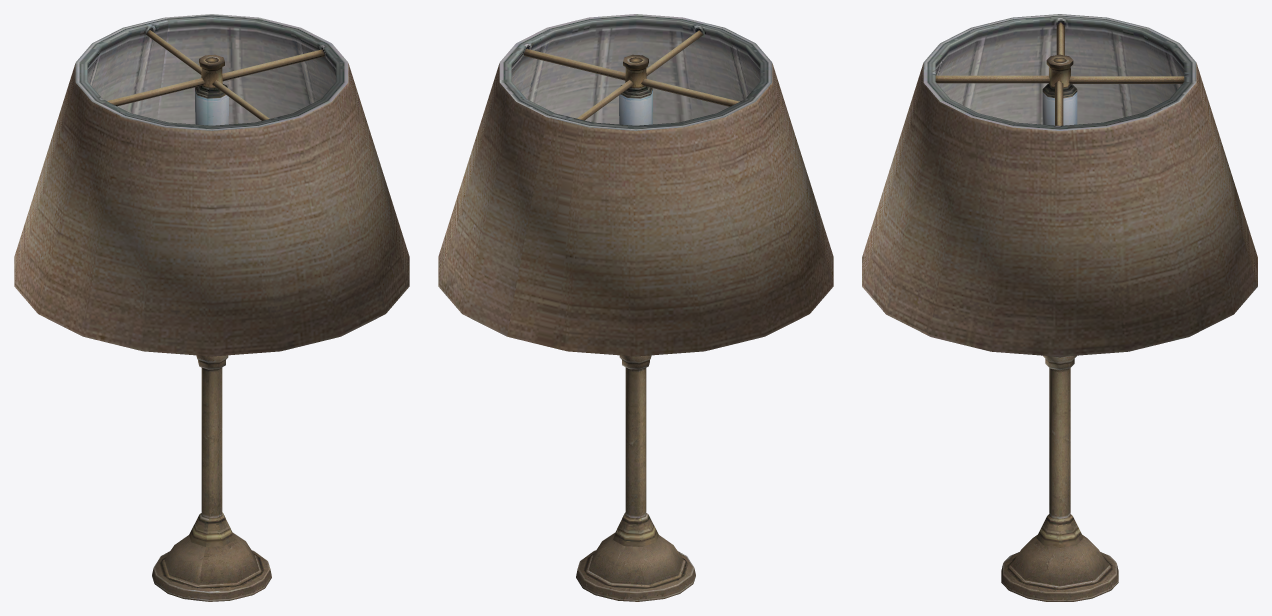
The model's file is lamp_bedside.dae.
3 renders of one model, left to right at view 1: azimuth 30°, elevation 25°; view 2: azimuth 150°, elevation 25°; view 3: azimuth 270°, elevation 25°, orthographic.
Parts seen in each view (by area): view 1: lamp_bedside; view 2: lamp_bedside; view 3: lamp_bedside.
Part boxes in pixels (bbox=[...]): lamp_bedside: bbox=[14, 14, 409, 601]; lamp_bedside: bbox=[438, 14, 833, 601]; lamp_bedside: bbox=[862, 14, 1257, 601].
Bounding box in the file's own units: 28.1 × 39.88 × 27.67.
